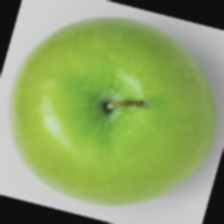apple: (32, 26, 180, 168)
